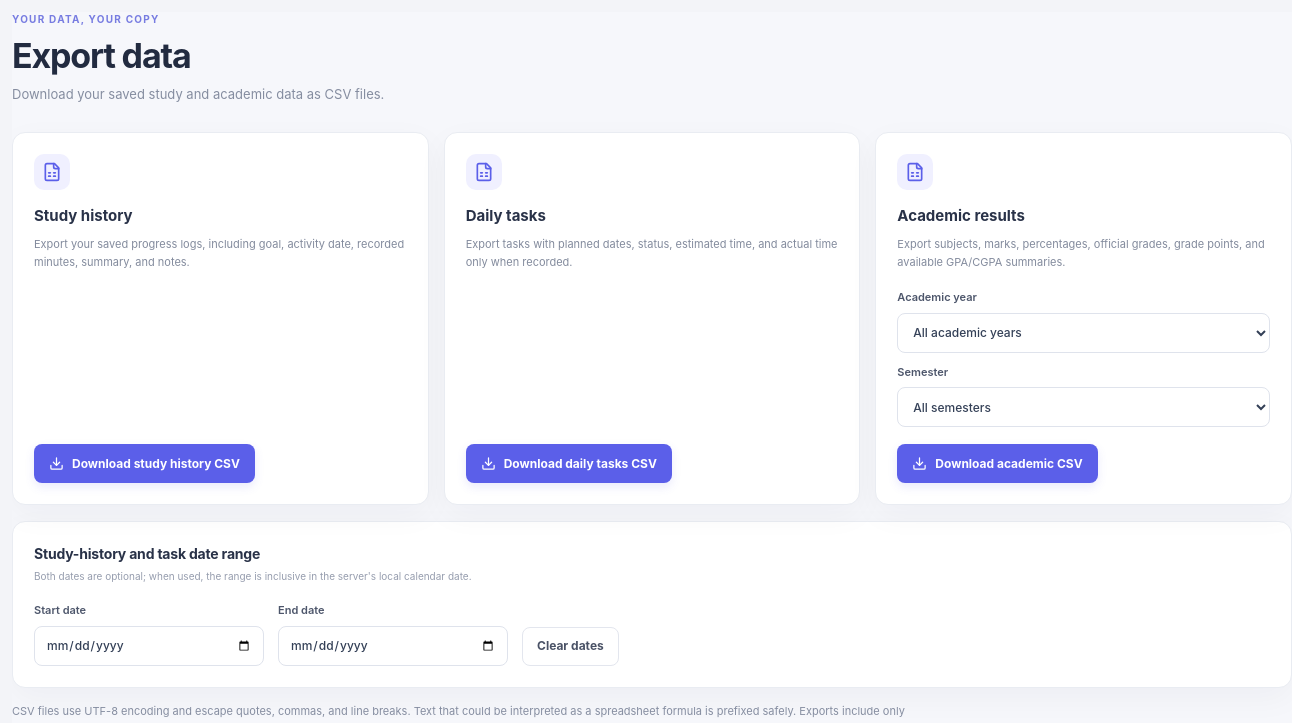
Scenario: exports page › uses inclusive date filter values and downloads the returned CSV blob
Type "2026-04-10" into the date field named "Export start date" at x=149, y=646, box [34, 626, 264, 666]
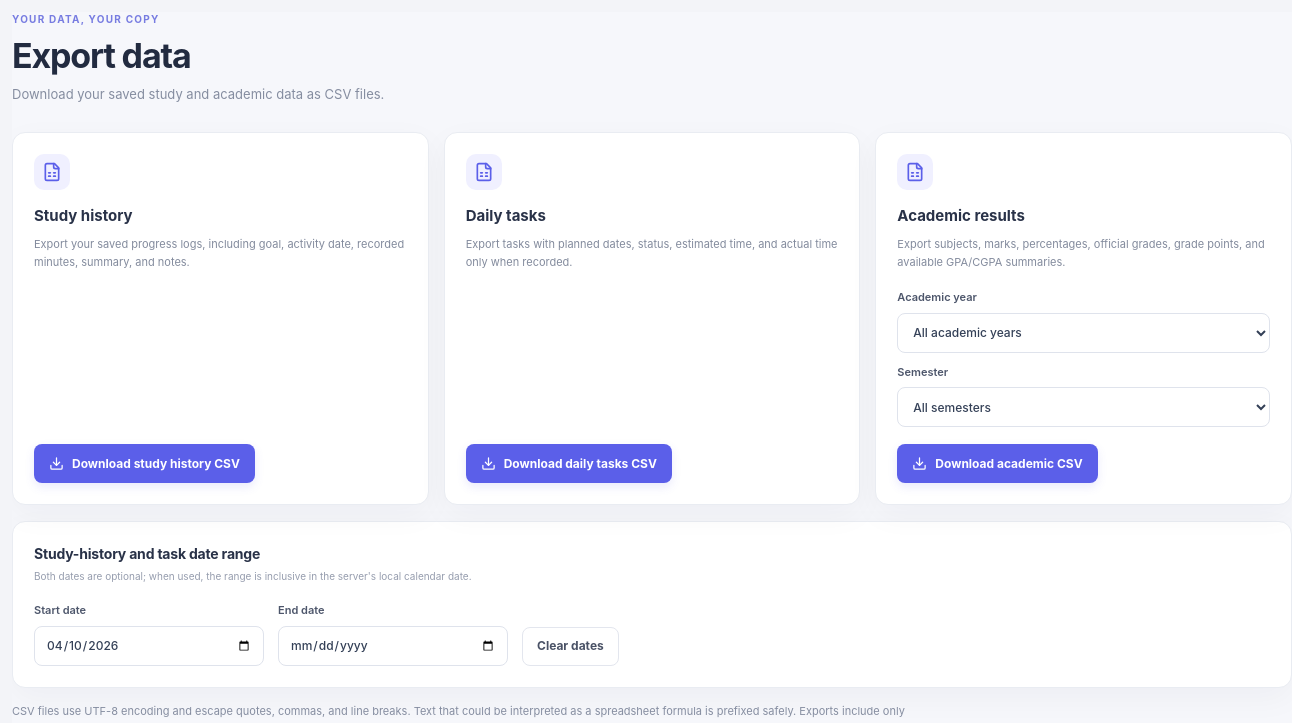
Type "2026-04-12" into the date field named "Export end date" at x=393, y=646, box [278, 626, 508, 666]
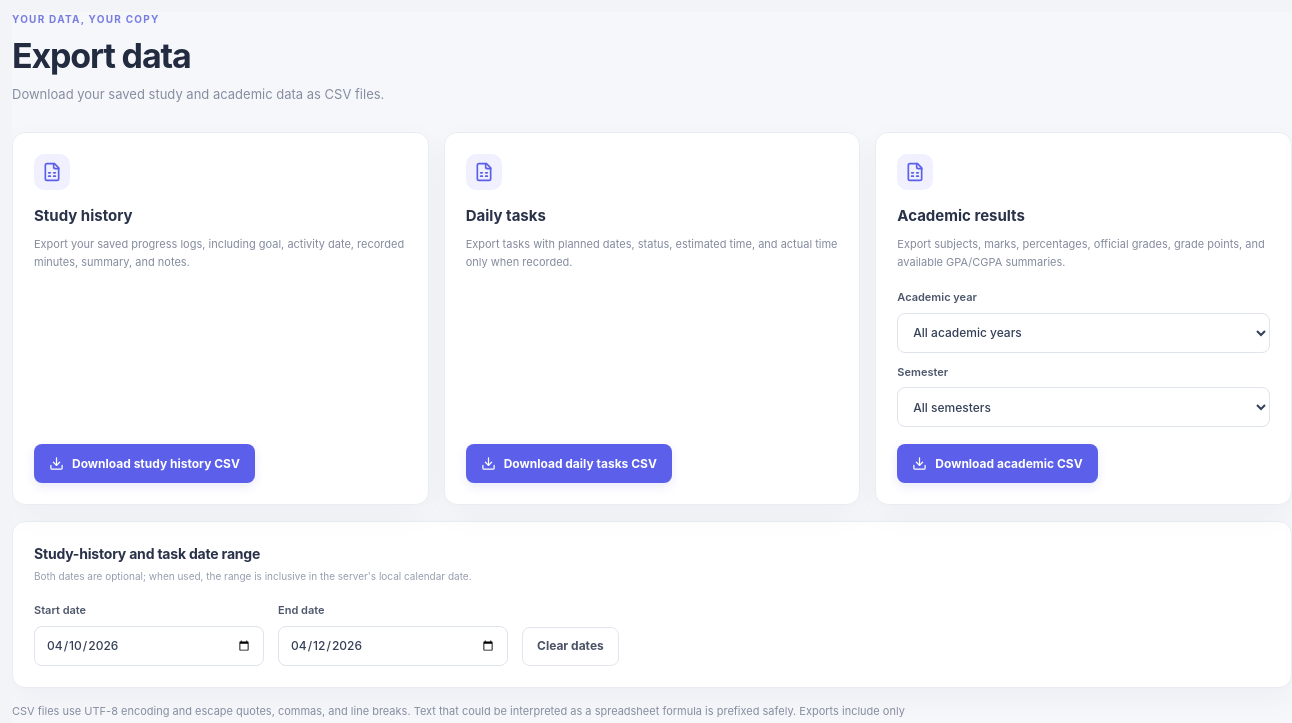
Click the button "Download study history CSV" at x=144, y=464, box [34, 444, 255, 483]
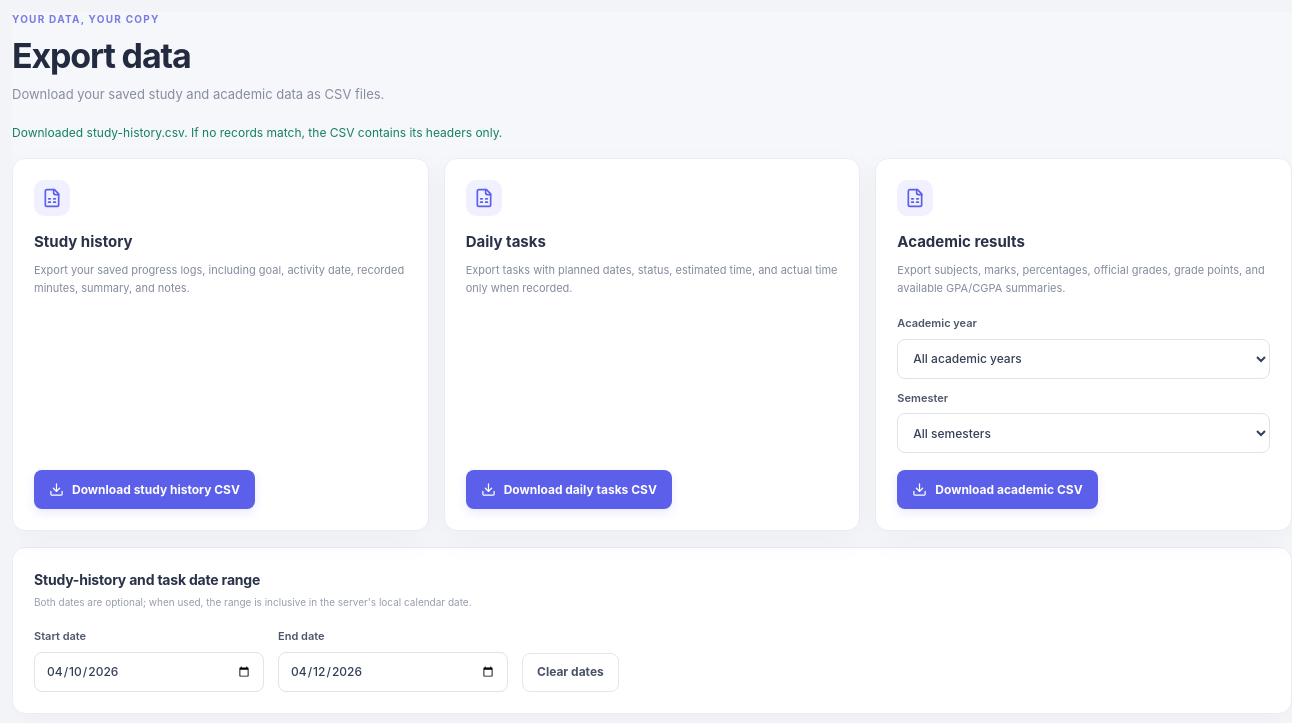
Now the message shows "headers only", box [12, 125, 502, 140]
